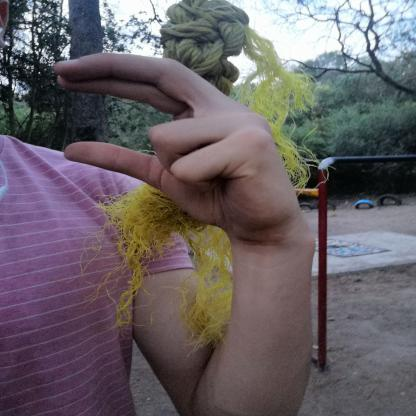DHELL: (34, 40, 328, 250)
